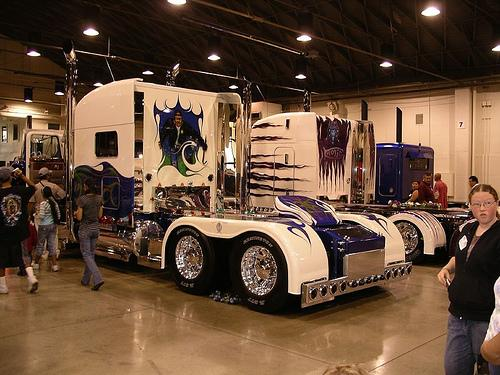truck: (22, 37, 413, 313), (234, 112, 449, 268), (332, 99, 500, 262)
